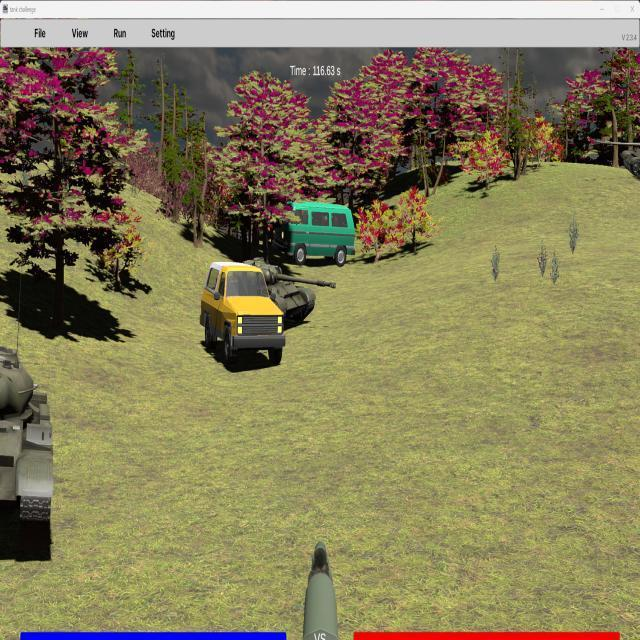Tank: (0, 332, 53, 551), (201, 260, 336, 330), (594, 136, 640, 183)
car: (200, 263, 285, 365), (269, 202, 355, 267)
